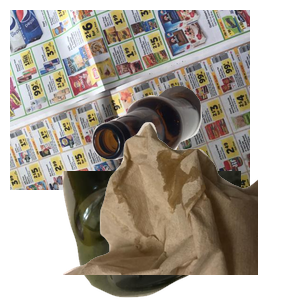glass: (90, 83, 300, 235)
paper: (10, 10, 250, 190)
plastic: (60, 171, 300, 300)
trash: (60, 120, 300, 300)
